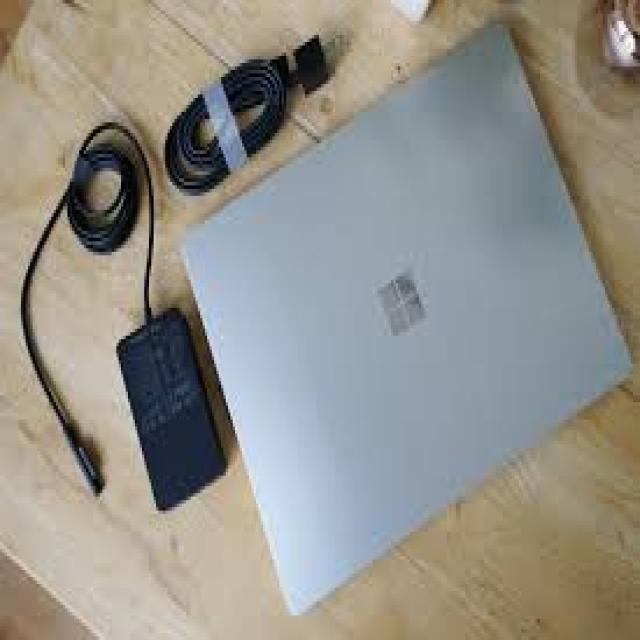laptop: (179, 18, 633, 616)
